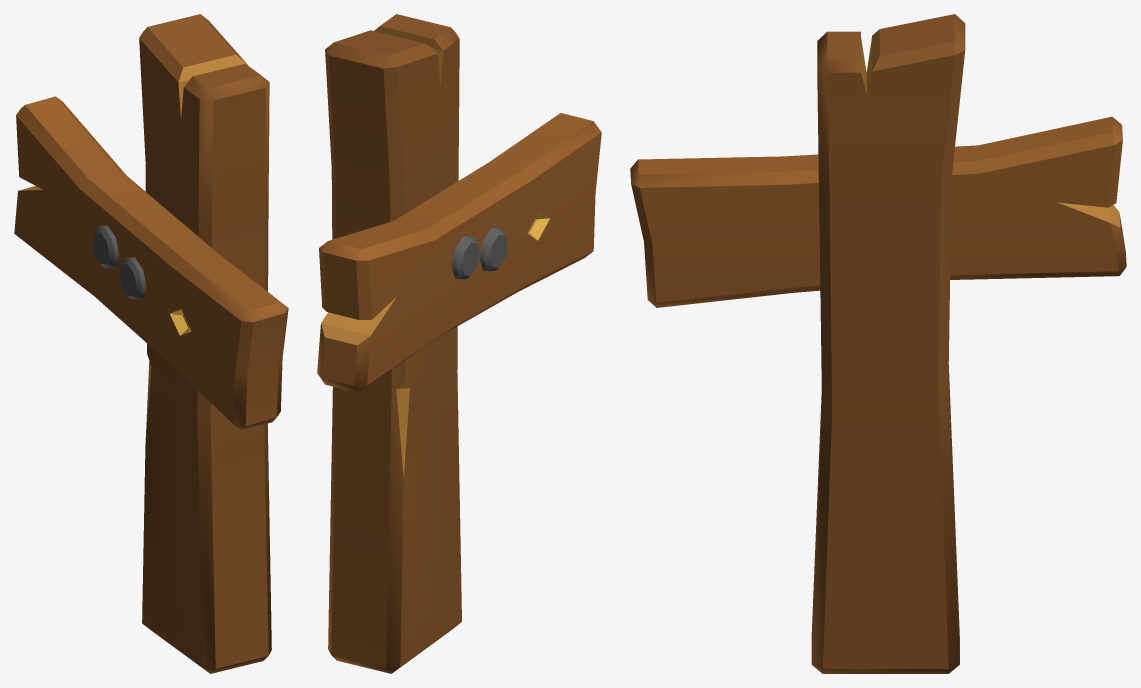
The model's file is Cross_3_3.glb.
The picture shows the model from 3 angles, left to right: view 1: azimuth 30°, elevation 25°; view 2: azimuth 150°, elevation 25°; view 3: azimuth 270°, elevation 25°; orthographic projection. The views are drawn at different scales.
Visible parts, largest first — view 1: Cross_3_3; view 2: Cross_3_3; view 3: Cross_3_3.
Boxes of the visible parts, <box> form: Cross_3_3: <box>14,14,288,673</box>; Cross_3_3: <box>317,14,601,673</box>; Cross_3_3: <box>630,14,1126,673</box>.
Bounding box in the file's own units: 0.2142 × 0.9854 × 0.7006.
2 materials, 2 textured.
